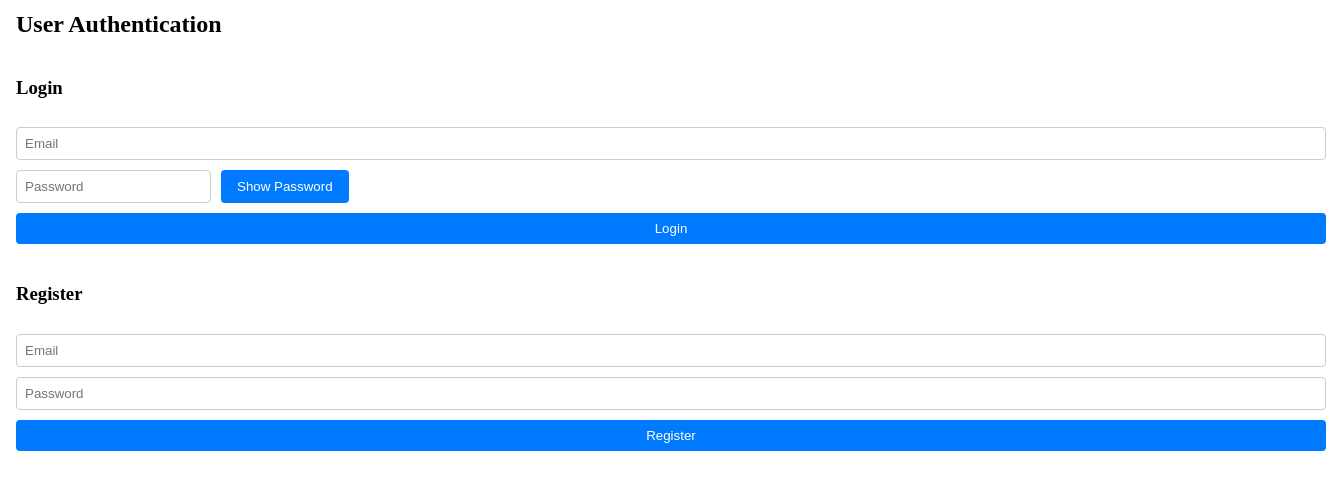
Test: UserAuthentication › validates email format on blur
Type "invalid-email" into the field with test id "login-email".
click(671, 144); type("invalid-email")  # box [16,127,1326,160]
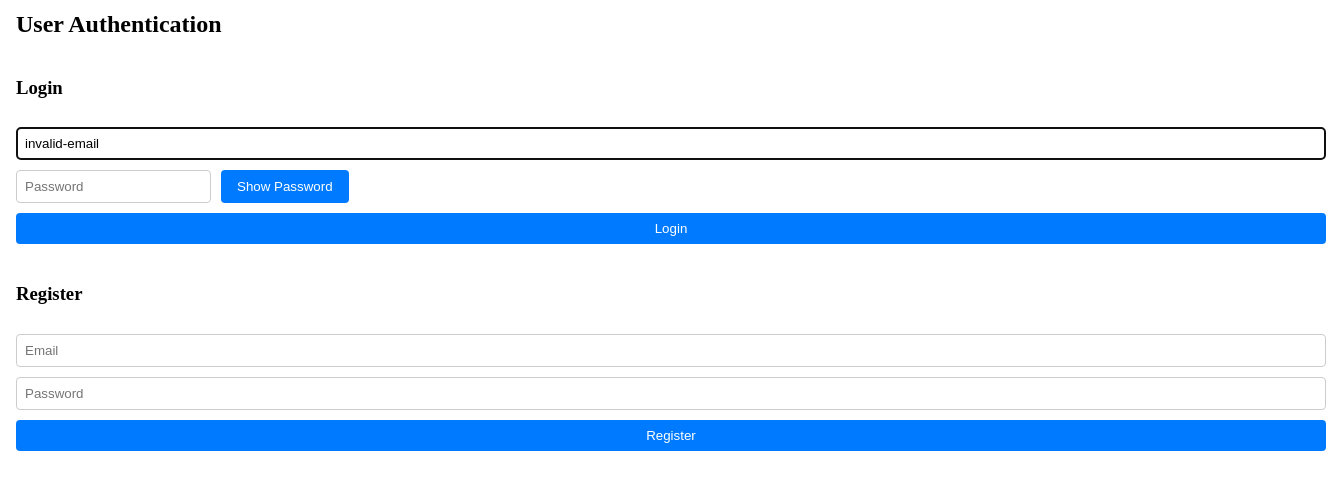
Submit the form with test id "login-form", box [16,58,1326,244]
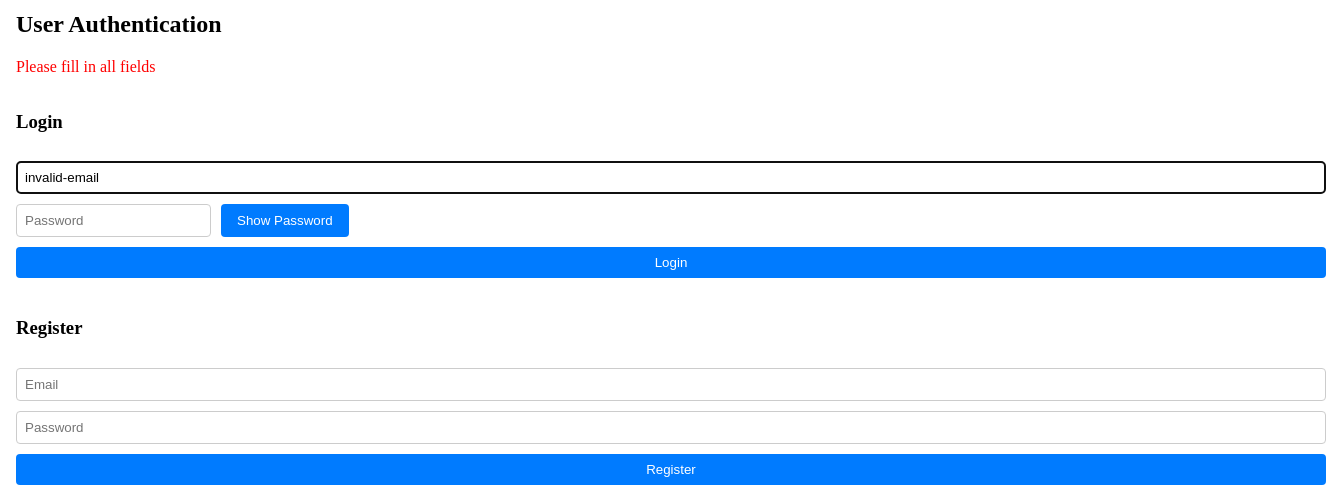
Check: the element with test id "form-error" reads "Please fill in all fields", box [16,58,156,75]
